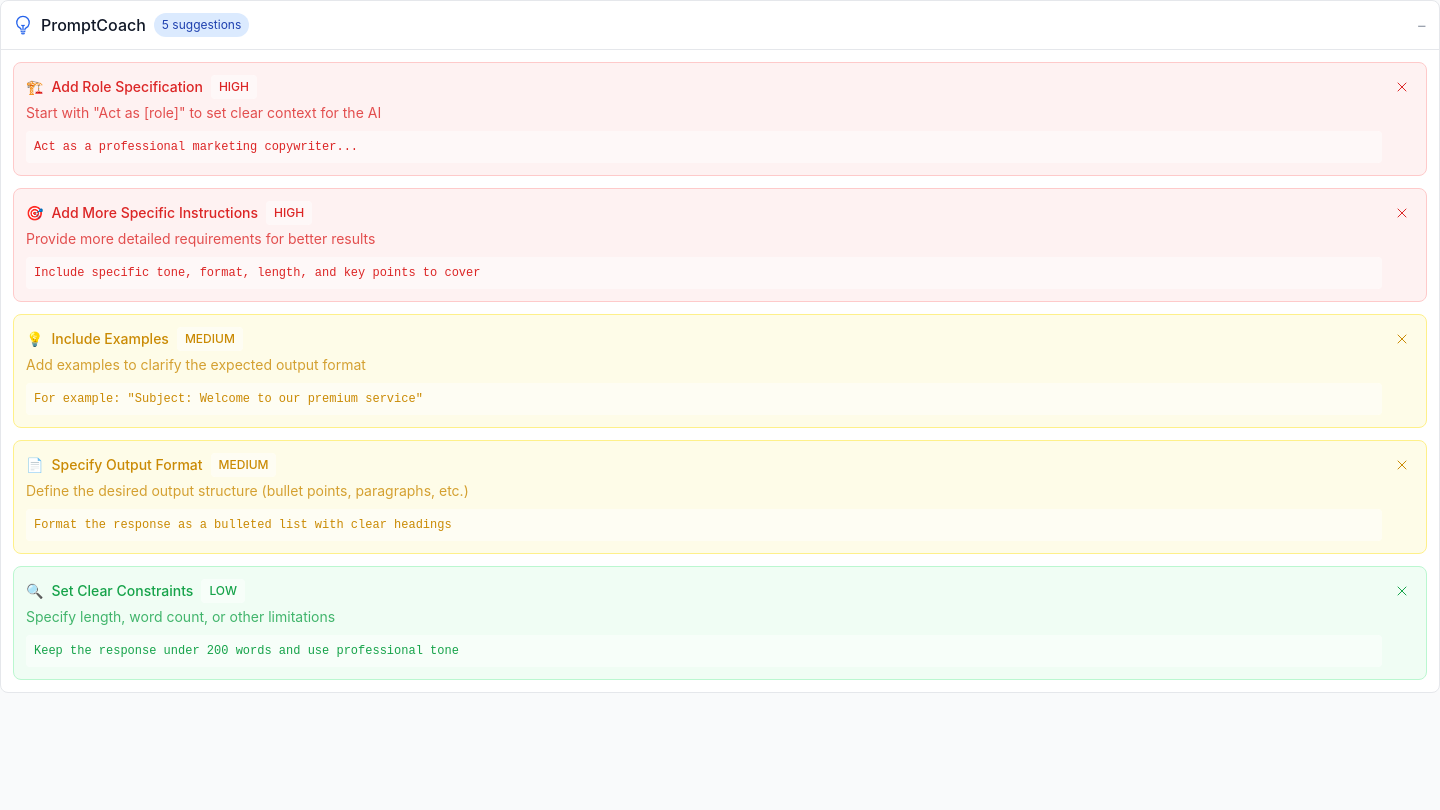
PromptCoach › should handle suggestion dismissal
Click the button "PromptCoach 5 suggestions −": x=93, y=25 [1,1,1439,50]
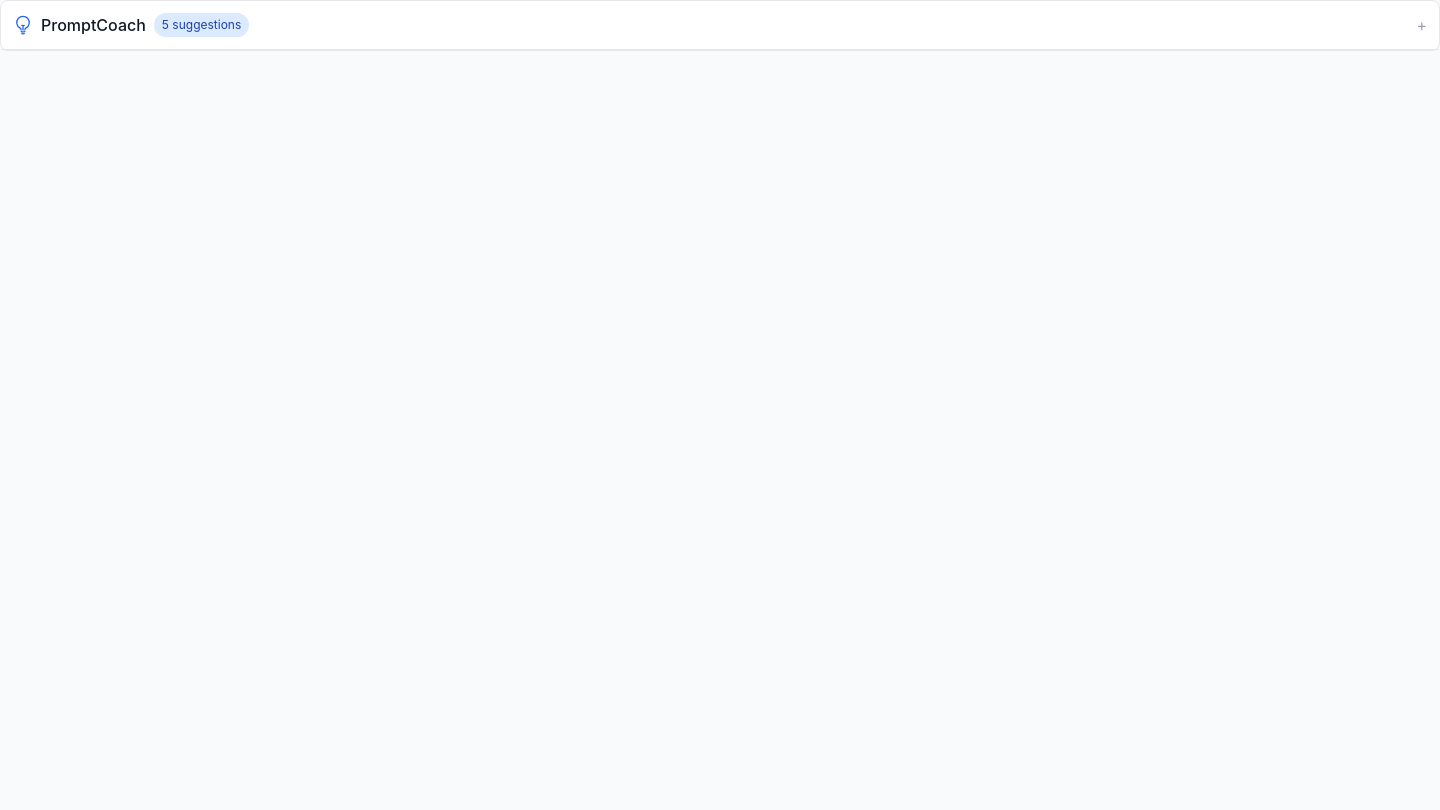
Expected: no headings "Add Role Specification" are shown
